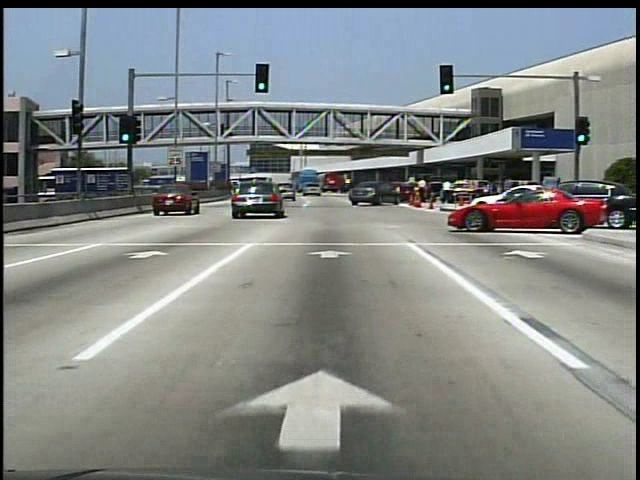person: (414, 175, 430, 210), (480, 182, 495, 216), (438, 178, 455, 205), (219, 124, 228, 141)
